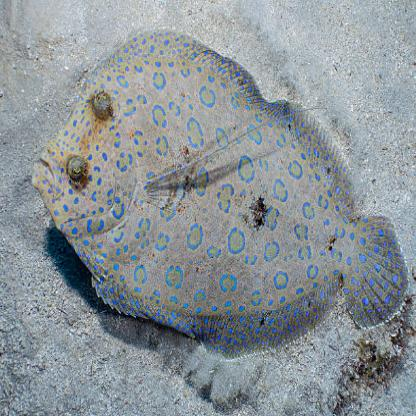flounder: (29, 26, 409, 359)
